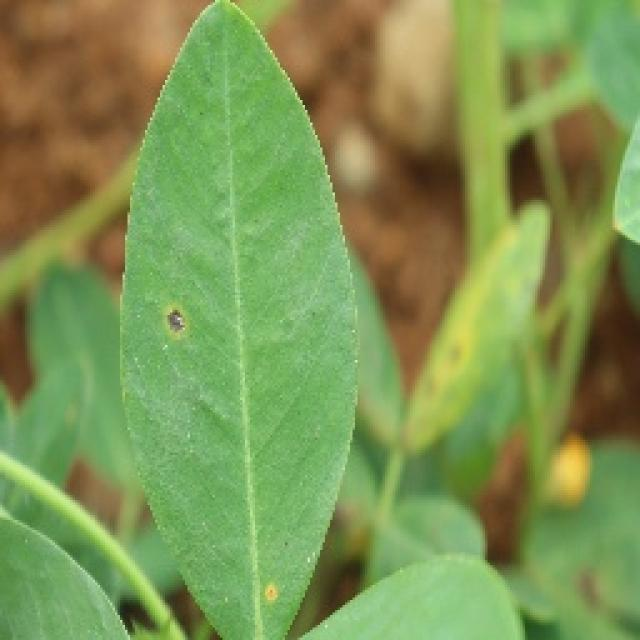Early_leaf_spot: (148, 302, 221, 369)
